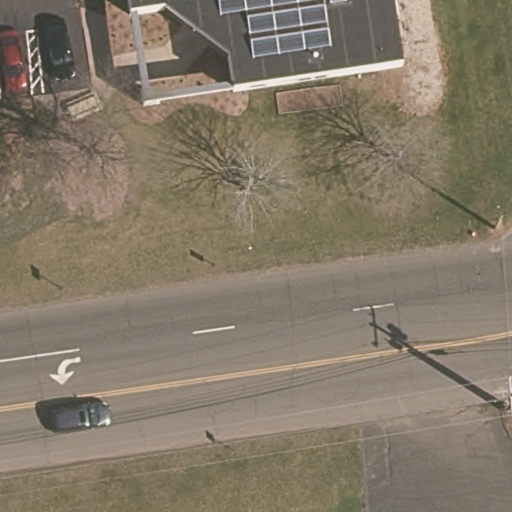DT: (485, 198, 512, 237)
